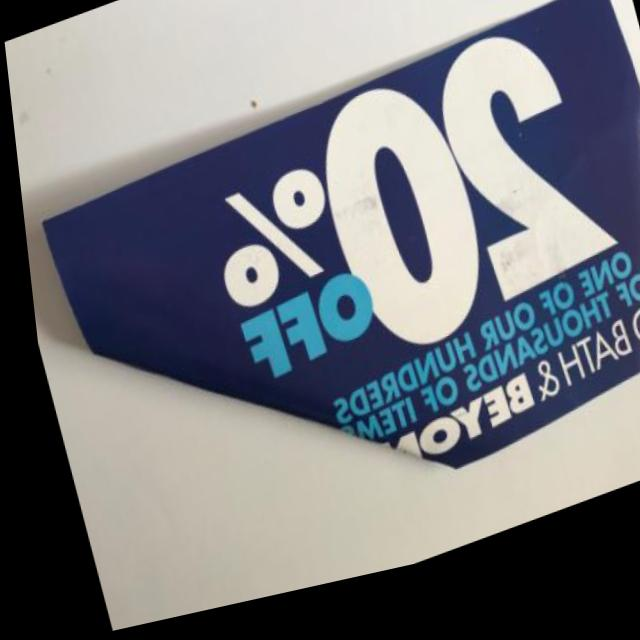paper: (5, 0, 640, 638)
